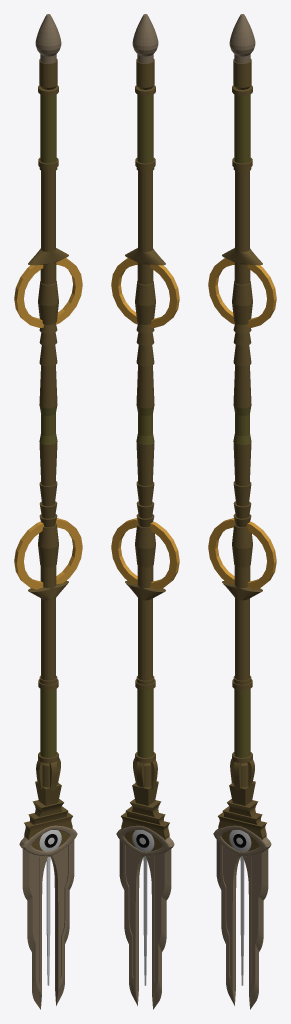
The model's file is void_anchor.obj.
3 renders of one model, left to right at view 1: azimuth 30°, elevation 25°; view 2: azimuth 150°, elevation 25°; view 3: azimuth 330°, elevation 25°, orthographic.
Visible parts, largest first — view 1: Cylinder, Plane, SuperToroid_001, Cube, Cylinder_001, SuperToroid, Cube_001, Sphere, BezierCurve_001, BezierCurve; view 2: Cylinder, Plane, SuperToroid_001, Cube, Cylinder_001, SuperToroid, Cube_001, Sphere, BezierCurve_001; view 3: Cylinder, Plane, SuperToroid_001, Cube, Cylinder_001, SuperToroid, Cube_001, Sphere, BezierCurve_001, BezierCurve.
Boxes of the visible parts, x1=… form: Cylinder: x1=28, y1=59, x2=68, y2=787; Plane: x1=22, y1=840, x2=74, y2=1009; SuperToroid_001: x1=14, y1=258, x2=82, y2=589; Cube: x1=24, y1=781, x2=72, y2=856; Cylinder_001: x1=35, y1=14, x2=61, y2=63; SuperToroid: x1=19, y1=825, x2=77, y2=856; Cube_001: x1=46, y1=856, x2=50, y2=985; Sphere: x1=39, y1=830, x2=61, y2=856; BezierCurve_001: x1=36, y1=758, x2=60, y2=789; BezierCurve: x1=49, y1=762, x2=57, y2=790; Cylinder: x1=125, y1=59, x2=165, y2=787; Plane: x1=119, y1=840, x2=171, y2=1009; SuperToroid_001: x1=111, y1=258, x2=179, y2=589; Cube: x1=121, y1=781, x2=169, y2=856; Cylinder_001: x1=132, y1=14, x2=158, y2=63; SuperToroid: x1=116, y1=825, x2=174, y2=856; Cube_001: x1=143, y1=856, x2=147, y2=985; Sphere: x1=132, y1=830, x2=154, y2=856; BezierCurve_001: x1=133, y1=758, x2=157, y2=789; Cylinder: x1=222, y1=59, x2=262, y2=787; Plane: x1=216, y1=840, x2=268, y2=1009; SuperToroid_001: x1=208, y1=258, x2=276, y2=589; Cube: x1=218, y1=781, x2=266, y2=856; Cylinder_001: x1=229, y1=14, x2=255, y2=63; SuperToroid: x1=213, y1=825, x2=271, y2=856; Cube_001: x1=240, y1=856, x2=244, y2=985; Sphere: x1=229, y1=830, x2=251, y2=856; BezierCurve_001: x1=230, y1=759, x2=254, y2=786; BezierCurve: x1=233, y1=762, x2=241, y2=790.
Size of the model in its own units: 0.1392 by 2 by 0.0466.
